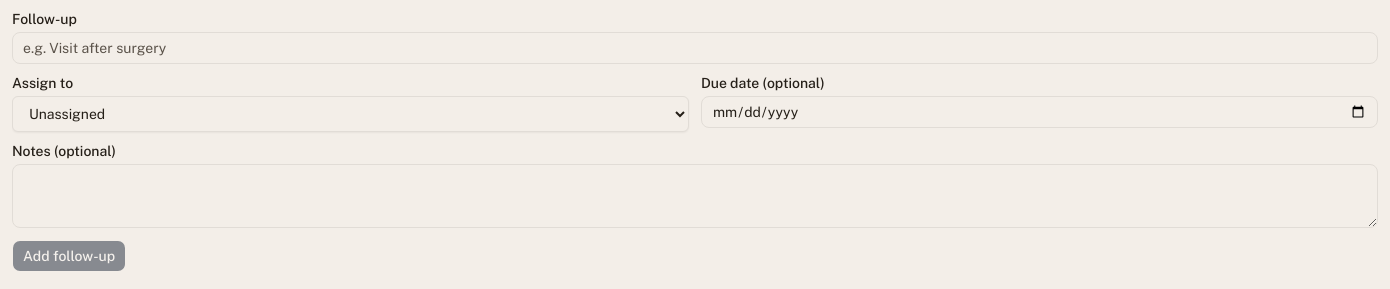
it: FollowUpForm › shows the server error and keeps the input
Step 1. Type "Visit" into the field labelled "Follow-up" → {"x": 695, "y": 48}, box 12,32 -> 1378,64
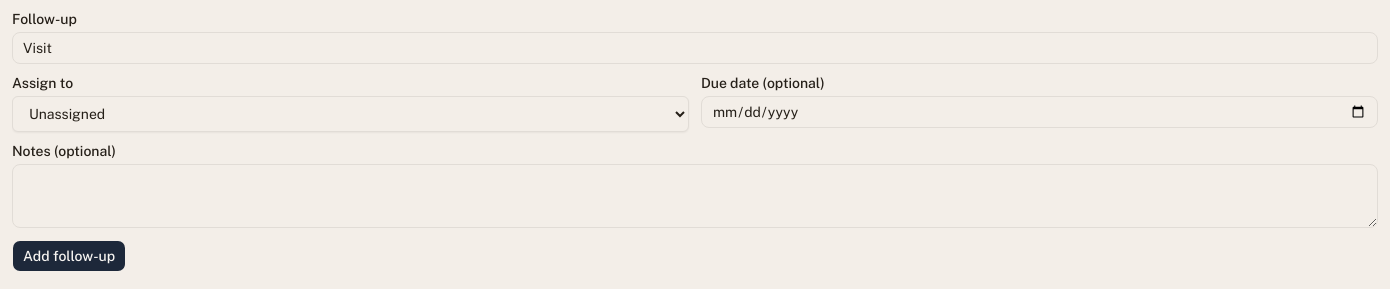
Step 2. Click the button "Add follow-up" → {"x": 69, "y": 256}, box 12,240 -> 126,272
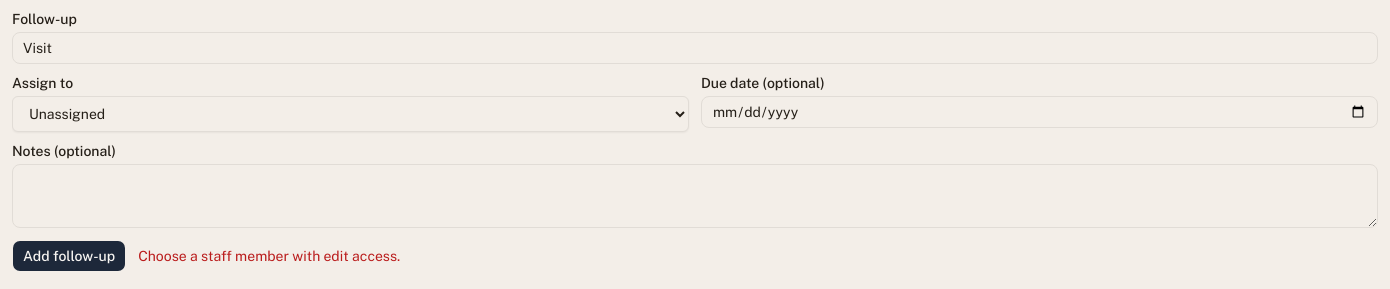
Result: the message shows "Choose a staff member" at 138,248 -> 400,264
